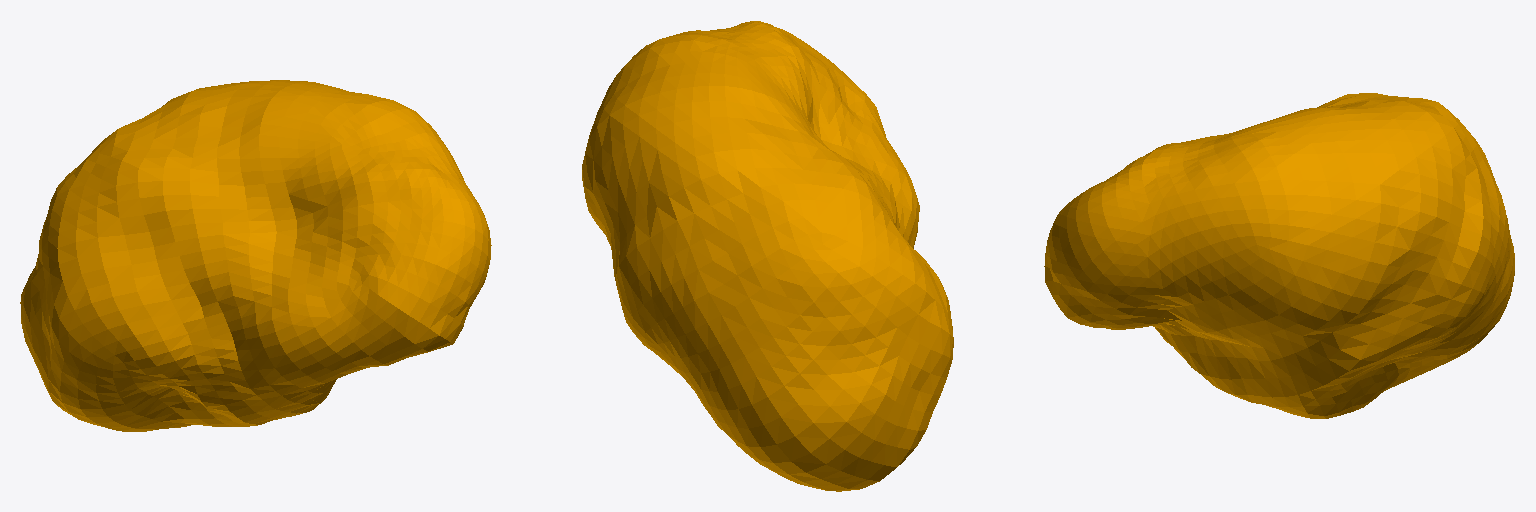
URDF robot description (rock):
<?xml version="1.0" ?>
<robot name="rock">
  <link name="rock">
    <inertial>
      <mass value="0.237"/>
      <origin rpy="0 0 0" xyz="0 0 0"/>
      <inertia ixx="0.000237" ixy="0" ixz="0" iyy="0.000237" iyz="0" izz="0.000237"/>
    </inertial>
    <collision name="rock_collision">
      <origin rpy="0 0 0" xyz="0 0 0"/>
      <geometry>
        <mesh filename="package://rocks/visual/133.dae" scale="1 1 1"/>
      </geometry>
    </collision>
    <visual name="rock_visual">
      <origin rpy="0 0 0" xyz="0 0 0"/>
      <geometry>
        <mesh filename="package://rocks/visual/133.dae" scale="1 1 1"/>
      </geometry>
    </visual>
  </link>
</robot>

--- Render facts (derived) ---
3 views of the same robot in one strip: view 1: azimuth 30°, elevation 25°; view 2: azimuth 150°, elevation 25°; view 3: azimuth 270°, elevation 25° (orthographic).
Model rock with 1 links and 0 joints (none), rooted at rock, posed every joint at zero.
Visible links, largest first — view 1: rock; view 2: rock; view 3: rock.
Boxes of the visible links, left/top/right/bottom form: rock: left=20, top=80, right=491, bottom=431; rock: left=582, top=21, right=953, bottom=491; rock: left=1044, top=93, right=1514, bottom=418.
Bounding box of the posed robot: 0.0587 × 0.0656 × 0.0521 m (x, y, z).
Meshes: 1 distinct files referenced, 1 mesh visuals loaded (1 Collada DAE).